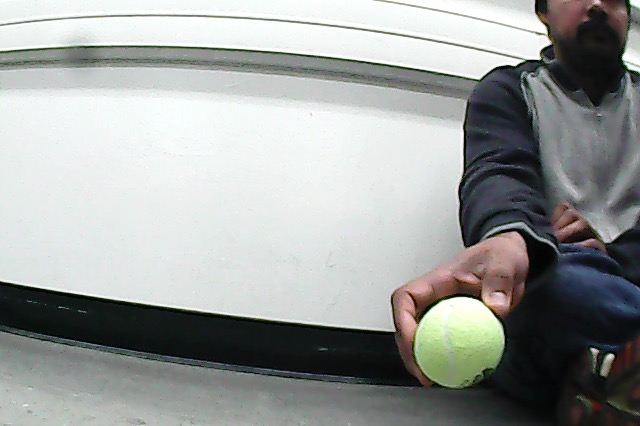ball: (410, 292, 511, 393)
